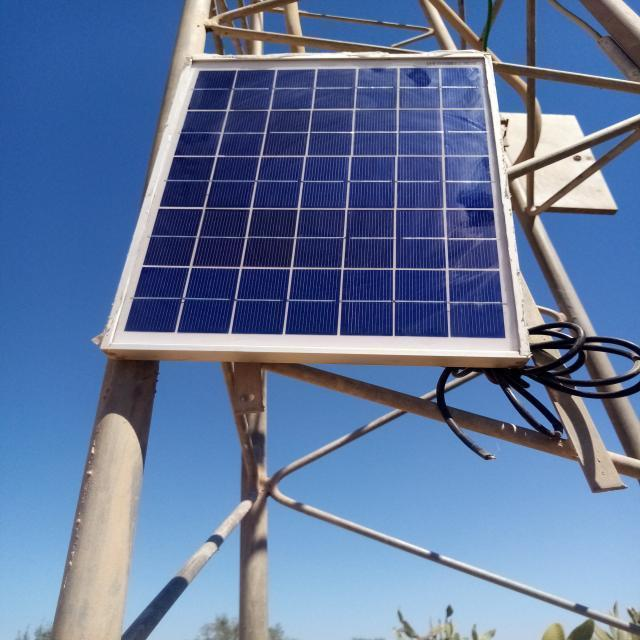Normal Solar Panel: (105, 54, 526, 354)
